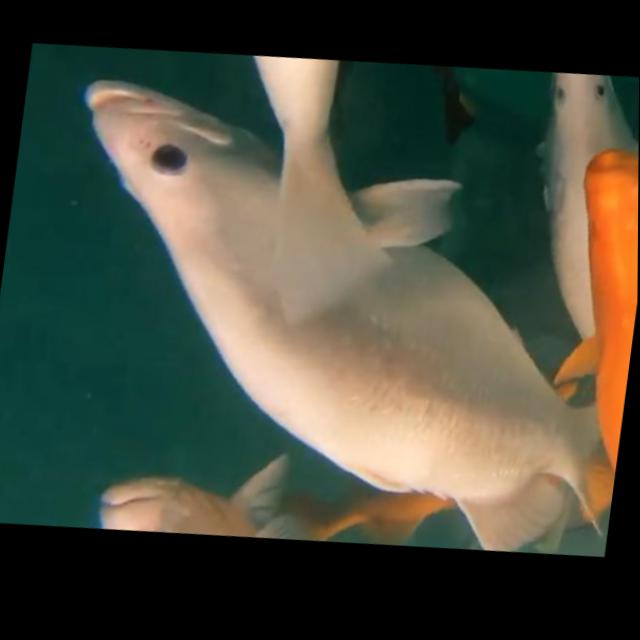Seabass: (24, 35, 639, 595)
